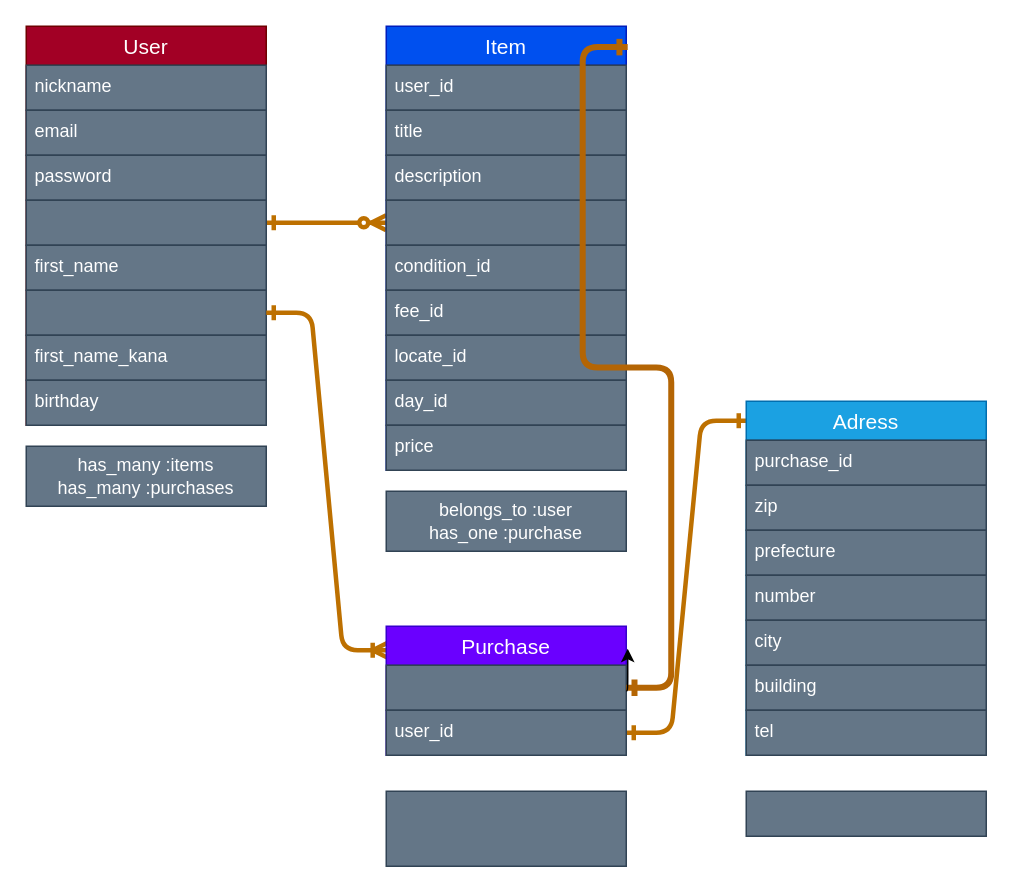
Image size: 1013x893. Some labels were removed from this diagram. Each missing label, with the centre of its shape:
belongs_to :item belongs_to :user has_one :adress: pixel 505 828
belongs_to :purchase: pixel 865 813
category_id: pixel 505 222
item_id: pixel 505 687
last_name: pixel 145 222
last_name_kana: pixel 145 312
